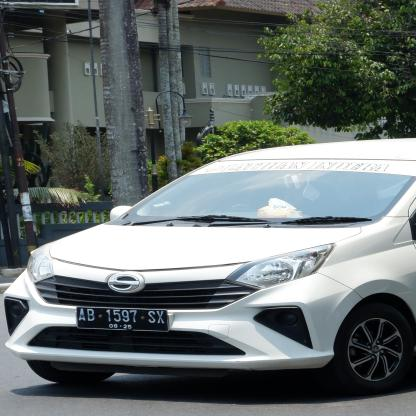Plat-Nomor: (74, 304, 176, 337)
